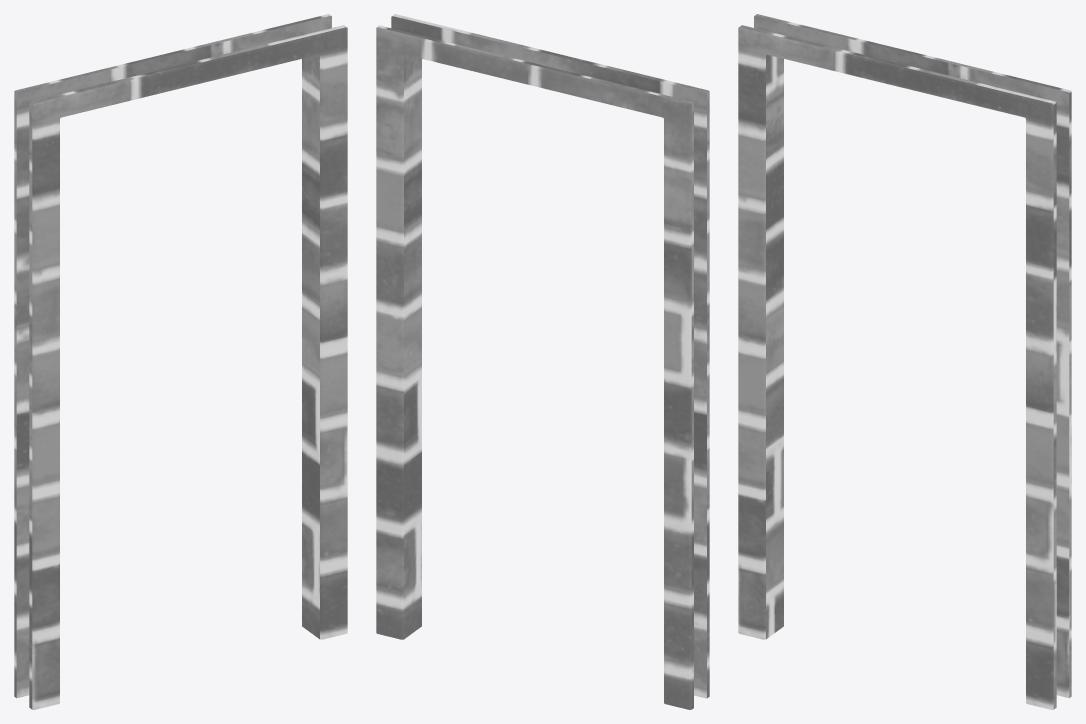
File: SM_DoorOfficeFrame.fbx
3 renders of one model, left to right at view 1: azimuth 30°, elevation 25°; view 2: azimuth 150°, elevation 25°; view 3: azimuth 330°, elevation 25°, orthographic.
Parts seen in each view (by area): view 1: SM_DoorOfficeFrame; view 2: SM_DoorOfficeFrame; view 3: SM_DoorOfficeFrame.
Boxes of the visible parts, x1,y1,x2,y2 form: SM_DoorOfficeFrame: (14,14,347,709); SM_DoorOfficeFrame: (376,14,709,709); SM_DoorOfficeFrame: (738,14,1071,709).
Bounding box in the file's own units: 144 × 15.62 × 265.
1 material, 1 textured.
